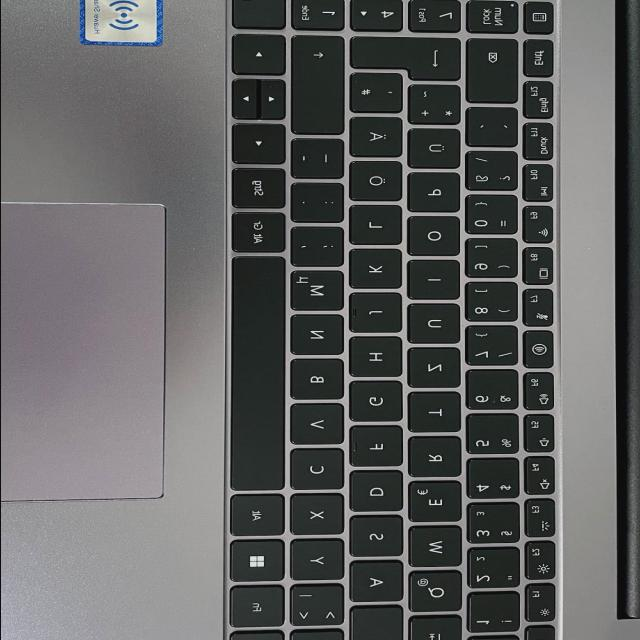0: (466, 196, 522, 237)
1: (470, 594, 524, 635)
2: (470, 549, 524, 591)
3: (469, 504, 523, 546)
4: (470, 461, 524, 501)
5: (469, 416, 523, 457)
6: (469, 371, 523, 412)
7: (467, 326, 522, 368)
8: (467, 284, 522, 324)
9: (467, 240, 522, 280)
a: (352, 563, 408, 605)
accent: (469, 109, 523, 149)
ae: (352, 118, 407, 159)
alt-left: (231, 496, 287, 538)
altgr-right: (233, 213, 289, 255)
b: (292, 359, 348, 403)
c: (291, 450, 349, 492)
caret: (470, 632, 523, 640)
comma: (293, 228, 348, 269)
d: (351, 472, 407, 514)
del: (469, 40, 523, 105)
e: (410, 482, 466, 524)
enter: (353, 39, 465, 83)
f: (352, 427, 407, 469)
g: (351, 382, 407, 424)
h: (351, 338, 407, 379)
hash: (352, 74, 407, 115)
i: (410, 261, 464, 302)
j: (352, 295, 407, 335)
k: (351, 250, 407, 291)
keyboard: (218, 0, 572, 640)
l: (351, 206, 407, 247)
less: (292, 585, 349, 629)
m: (292, 272, 348, 314)
minus: (294, 141, 348, 182)
n: (292, 315, 348, 357)
o: (409, 217, 463, 259)
oe: (351, 162, 406, 204)
p: (409, 173, 464, 214)
plus: (411, 86, 465, 126)
point: (294, 184, 348, 226)
q: (410, 571, 466, 615)
r: (410, 438, 466, 480)
s: (351, 517, 407, 559)
shift-left: (292, 626, 348, 640)
shift-lock: (352, 607, 408, 640)
shift-right: (294, 36, 350, 137)
space: (233, 257, 290, 493)
ss: (468, 153, 522, 194)
strg-left: (231, 625, 288, 640)
strg-right: (233, 169, 289, 211)
t: (411, 393, 466, 435)
tab: (411, 617, 466, 640)
u: (409, 304, 465, 346)
ue: (409, 129, 465, 171)
v: (292, 405, 349, 447)
w: (411, 528, 467, 570)
x: (292, 494, 348, 538)
y: (292, 541, 349, 583)
z: (409, 349, 465, 391)
